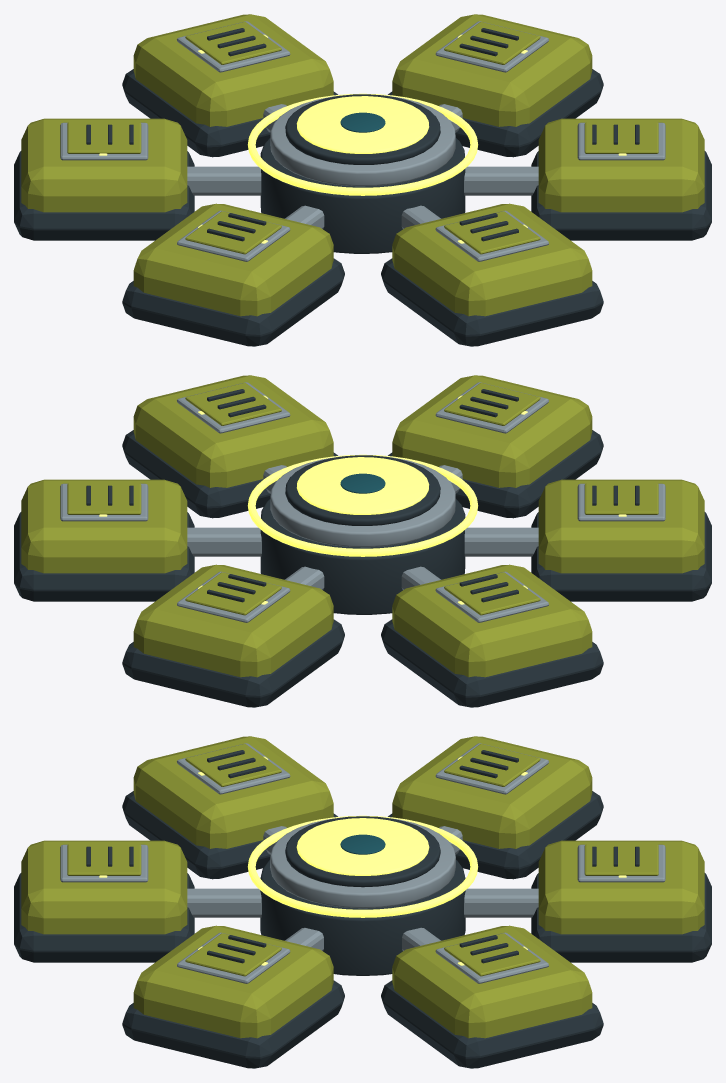
Rendered from boss-3.glb.
The picture shows the model from 3 angles, top to bottom: view 1: azimuth 30°, elevation 25°; view 2: azimuth 150°, elevation 25°; view 3: azimuth 270°, elevation 25°; orthographic projection.
Parts seen in each view (by area): view 1: SM_Shield_Right, SM_Hull; view 2: SM_Shield_Right, SM_Hull; view 3: SM_Shield_Right, SM_Hull.
Part boxes in pixels (bbox=[...]): SM_Shield_Right: bbox=[14, 14, 711, 346]; SM_Hull: bbox=[247, 93, 478, 253]; SM_Shield_Right: bbox=[14, 375, 711, 707]; SM_Hull: bbox=[247, 454, 478, 614]; SM_Shield_Right: bbox=[14, 736, 711, 1068]; SM_Hull: bbox=[247, 815, 478, 975].
Size of the model in its own units: 6.91 by 1.02 by 7.15.
